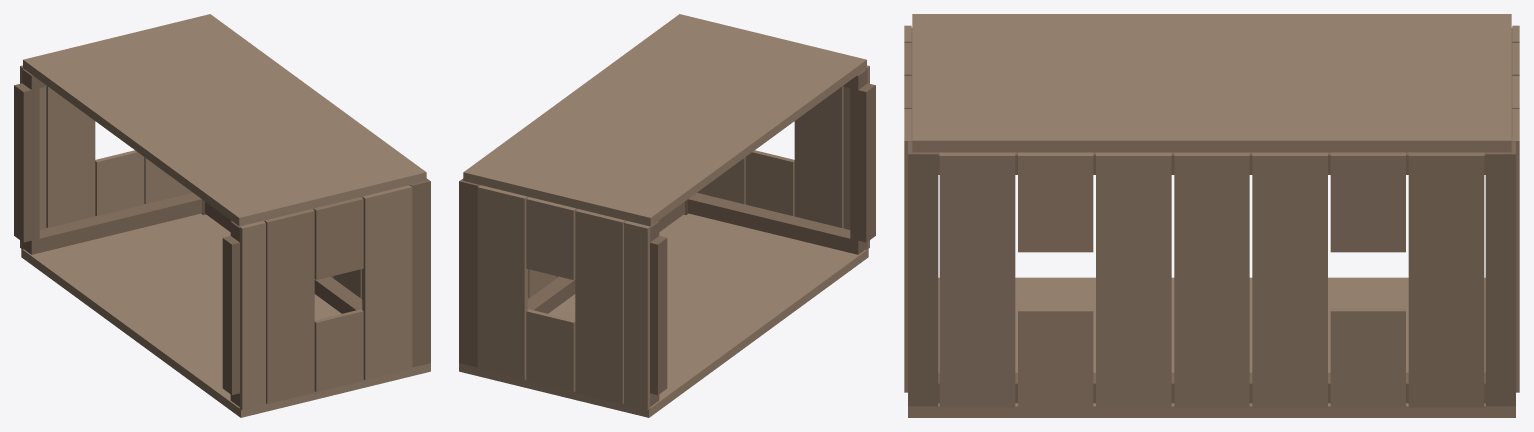
File: Kit_RealTower_CrWdA_Fractured.fbx
3 views of the same model, side by side, from view 1: azimuth 30°, elevation 25°; view 2: azimuth 150°, elevation 25°; view 3: azimuth 270°, elevation 25° (orthographic). The views are drawn at different scales.
Parts seen in each view (by area): view 1: Kit_RealTower_CrWdA_frag_11, Kit_RealTower_CrWdA_frag_08, Kit_RealTower_CrWdA_frag_07, Kit_RealTower_CrWdA_frag_04, Kit_RealTower_CrWdA_frag_09, Kit_RealTower_CrWdA_frag_03, Kit_RealTower_CrWdA_frag_06, Kit_RealTower_CrWdA_frag_01, Kit_RealTower_CrWdA_frag_05, Kit_RealTower_CrWdA_frag_02, Kit_RealTower_CrWdA_frag_10; view 2: Kit_RealTower_CrWdA_frag_08, Kit_RealTower_CrWdA_frag_11, Kit_RealTower_CrWdA_frag_07, Kit_RealTower_CrWdA_frag_01, Kit_RealTower_CrWdA_frag_10, Kit_RealTower_CrWdA_frag_03, Kit_RealTower_CrWdA_frag_06, Kit_RealTower_CrWdA_frag_04, Kit_RealTower_CrWdA_frag_02, Kit_RealTower_CrWdA_frag_05, Kit_RealTower_CrWdA_frag_09; view 3: Kit_RealTower_CrWdA_frag_07, Kit_RealTower_CrWdA_frag_09, Kit_RealTower_CrWdA_frag_10, Kit_RealTower_CrWdA_frag_08, Kit_RealTower_CrWdA_frag_06, Kit_RealTower_CrWdA_frag_11, Kit_RealTower_CrWdA_frag_02, Kit_RealTower_CrWdA_frag_05, Kit_RealTower_CrWdA_frag_03, Kit_RealTower_CrWdA_frag_01, Kit_RealTower_CrWdA_frag_04.
Part boxes in pixels (box(x1,y1,x2,y2)): Kit_RealTower_CrWdA_frag_11: box(166, 141, 408, 410); Kit_RealTower_CrWdA_frag_08: box(14, 14, 280, 249); Kit_RealTower_CrWdA_frag_07: box(94, 66, 361, 298); Kit_RealTower_CrWdA_frag_04: box(21, 150, 202, 309); Kit_RealTower_CrWdA_frag_09: box(362, 178, 430, 380); Kit_RealTower_CrWdA_frag_03: box(93, 270, 349, 363); Kit_RealTower_CrWdA_frag_06: box(262, 119, 426, 202); Kit_RealTower_CrWdA_frag_01: box(166, 309, 363, 417); Kit_RealTower_CrWdA_frag_05: box(127, 201, 231, 277); Kit_RealTower_CrWdA_frag_02: box(314, 269, 430, 394); Kit_RealTower_CrWdA_frag_10: box(144, 157, 205, 214); Kit_RealTower_CrWdA_frag_08: box(463, 120, 721, 410); Kit_RealTower_CrWdA_frag_11: box(699, 36, 875, 249); Kit_RealTower_CrWdA_frag_07: box(528, 67, 793, 298); Kit_RealTower_CrWdA_frag_01: box(687, 150, 868, 311); Kit_RealTower_CrWdA_frag_10: box(459, 178, 527, 380); Kit_RealTower_CrWdA_frag_03: box(537, 272, 794, 364); Kit_RealTower_CrWdA_frag_06: box(607, 14, 770, 89); Kit_RealTower_CrWdA_frag_04: box(526, 309, 721, 417); Kit_RealTower_CrWdA_frag_02: box(658, 201, 762, 279); Kit_RealTower_CrWdA_frag_05: box(459, 269, 552, 394); Kit_RealTower_CrWdA_frag_09: box(684, 157, 745, 214); Kit_RealTower_CrWdA_frag_07: box(1096, 14, 1485, 407); Kit_RealTower_CrWdA_frag_09: box(904, 109, 1015, 407); Kit_RealTower_CrWdA_frag_10: box(1408, 109, 1519, 407); Kit_RealTower_CrWdA_frag_08: box(1314, 14, 1519, 152); Kit_RealTower_CrWdA_frag_06: box(912, 78, 1123, 252); Kit_RealTower_CrWdA_frag_11: box(904, 14, 1114, 140); Kit_RealTower_CrWdA_frag_02: box(908, 308, 1113, 417); Kit_RealTower_CrWdA_frag_05: box(1316, 308, 1515, 417); Kit_RealTower_CrWdA_frag_03: box(1113, 277, 1315, 417); Kit_RealTower_CrWdA_frag_01: box(938, 277, 1095, 342); Kit_RealTower_CrWdA_frag_04: box(1328, 277, 1485, 342).
Size of what is drawn, in the model's own units: 1.48 by 1.4 by 2.84.
